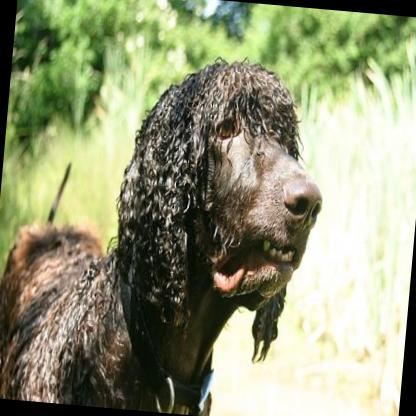Irish_water_spaniel: (0, 34, 333, 416)
